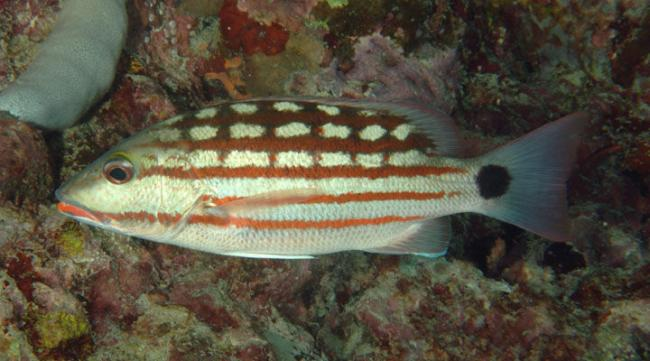fish: (54, 96, 584, 260)
